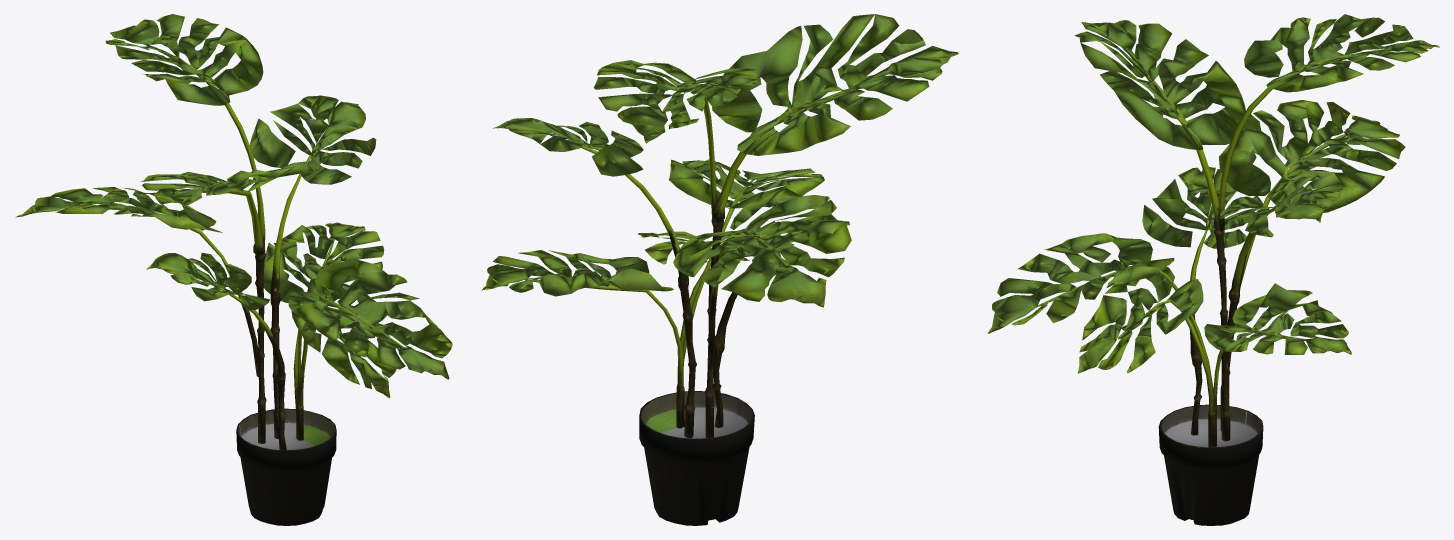
Rendered from monstera+plant+3d+model.glb.
3 views of the same model, side by side, from view 1: azimuth 30°, elevation 25°; view 2: azimuth 150°, elevation 25°; view 3: azimuth 270°, elevation 25° (orthographic). The views are drawn at different scales.
Parts seen in each view (by area): view 1: tripo_node_fea9fccc-c6a8-40a3-b35a-87d6bd7ef2a3; view 2: tripo_node_fea9fccc-c6a8-40a3-b35a-87d6bd7ef2a3; view 3: tripo_node_fea9fccc-c6a8-40a3-b35a-87d6bd7ef2a3.
Part boxes in pixels (x1,y1,x2,y2): tripo_node_fea9fccc-c6a8-40a3-b35a-87d6bd7ef2a3: [15, 14, 452, 525]; tripo_node_fea9fccc-c6a8-40a3-b35a-87d6bd7ef2a3: [481, 14, 958, 525]; tripo_node_fea9fccc-c6a8-40a3-b35a-87d6bd7ef2a3: [987, 14, 1439, 525].
Size of the model in its own units: 0.7832 by 0.998 by 0.9121.
1 material, 1 textured.
